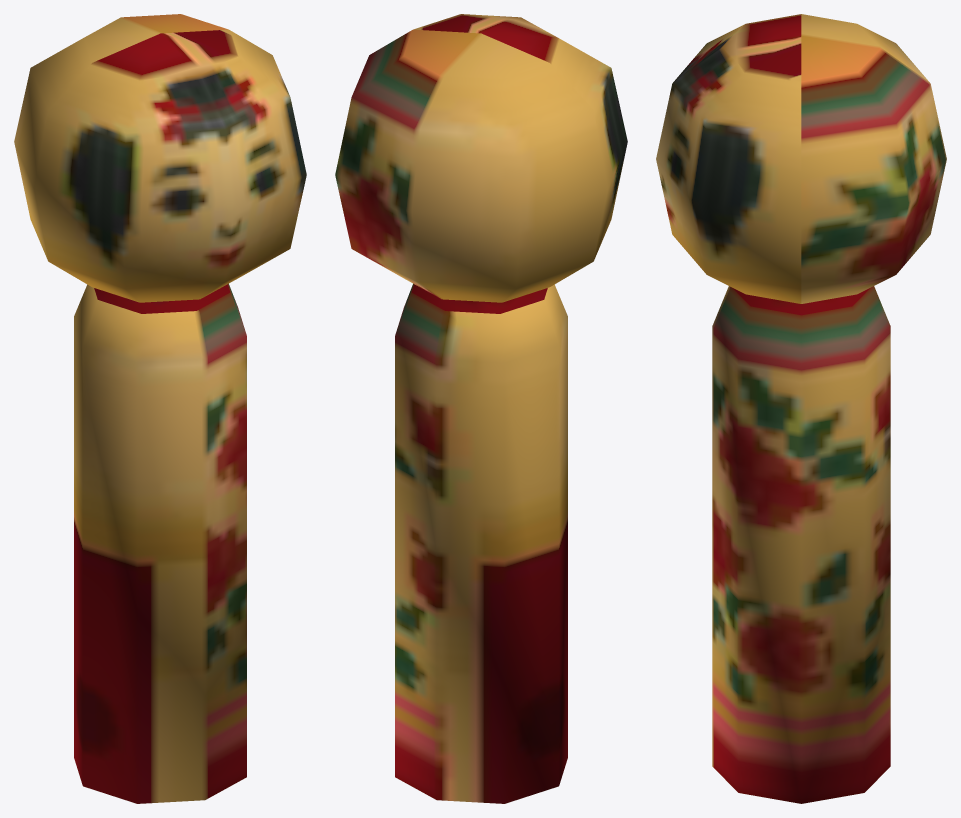
File: rmk_oth_kokeshi.dae
The picture shows the model from 3 angles, left to right: view 1: azimuth 30°, elevation 25°; view 2: azimuth 150°, elevation 25°; view 3: azimuth 270°, elevation 25°; orthographic projection.
Visible parts, largest first — view 1: bs_j_0_0; view 2: bs_j_0_0; view 3: bs_j_0_0.
Part boxes in pixels (x1,y1,x2,y2): bs_j_0_0: (14,14,306,803); bs_j_0_0: (335,14,627,803); bs_j_0_0: (656,14,946,803).
Size of the model in its own units: 10.12 by 28.08 by 10.12.
1 material, 1 textured.
